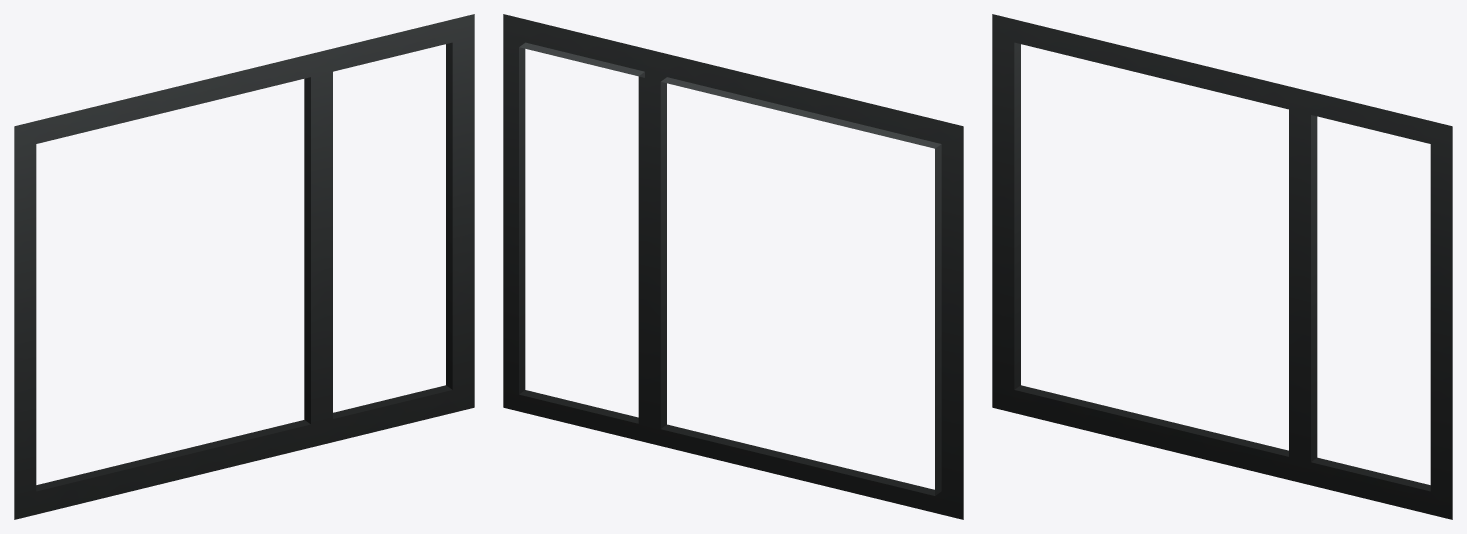
Rendered from Wall_3m_A_Window_B_Frame_B.fbx.
3 views of the same model, side by side, from view 1: azimuth 30°, elevation 25°; view 2: azimuth 150°, elevation 25°; view 3: azimuth 330°, elevation 25° (orthographic).
Visible parts, largest first — view 1: Wall_3m_A_Window_B_Frame_B; view 2: Wall_3m_A_Window_B_Frame_B; view 3: Wall_3m_A_Window_B_Frame_B.
Part boxes in pixels (bbox=[...]): Wall_3m_A_Window_B_Frame_B: bbox=[14, 14, 474, 519]; Wall_3m_A_Window_B_Frame_B: bbox=[503, 14, 963, 519]; Wall_3m_A_Window_B_Frame_B: bbox=[992, 14, 1452, 519].
Bounding box in the file's own units: 208 × 170 × 5.
